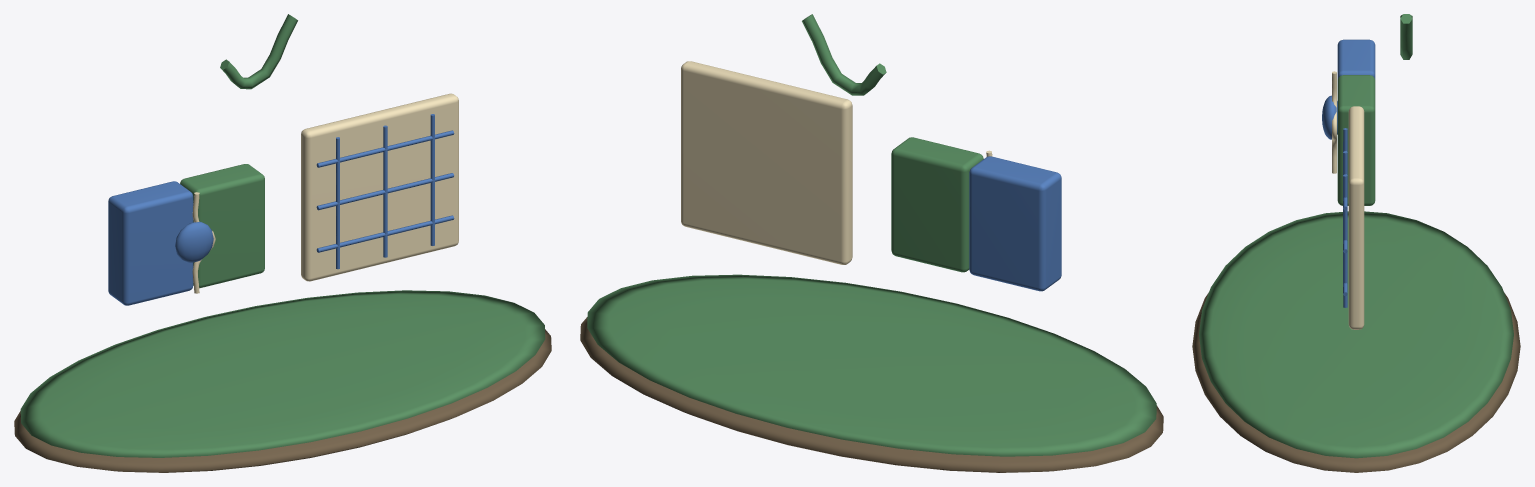
File: complete-third-fit-the-grid.glb
3 views of the same model, side by side, from view 1: azimuth 30°, elevation 25°; view 2: azimuth 150°, elevation 25°; view 3: azimuth 270°, elevation 25° (orthographic). The views are drawn at different scales.
Visible parts, largest first — view 1: complete-third-fit-the-grid_surface_01, complete-third-fit-the-grid_surface_03, complete-third-fit-the-grid_surface_02, complete-third-fit-the-grid_surface_00; view 2: complete-third-fit-the-grid_surface_01, complete-third-fit-the-grid_surface_03, complete-third-fit-the-grid_surface_02, complete-third-fit-the-grid_surface_00; view 3: complete-third-fit-the-grid_surface_01, complete-third-fit-the-grid_surface_00, complete-third-fit-the-grid_surface_03, complete-third-fit-the-grid_surface_02.
Boxes of the visible parts, box(x1,y1,x2,y2) form: complete-third-fit-the-grid_surface_01: box(20, 14, 545, 457); complete-third-fit-the-grid_surface_03: box(192, 93, 458, 293); complete-third-fit-the-grid_surface_02: box(108, 114, 454, 305); complete-third-fit-the-grid_surface_00: box(14, 329, 551, 472); complete-third-fit-the-grid_surface_01: box(587, 14, 1156, 456); complete-third-fit-the-grid_surface_03: box(681, 61, 992, 264); complete-third-fit-the-grid_surface_02: box(969, 156, 1061, 291); complete-third-fit-the-grid_surface_00: box(580, 317, 1163, 472); complete-third-fit-the-grid_surface_01: box(1199, 14, 1513, 458); complete-third-fit-the-grid_surface_00: box(1192, 292, 1520, 472); complete-third-fit-the-grid_surface_03: box(1332, 71, 1364, 329); complete-third-fit-the-grid_surface_02: box(1322, 39, 1375, 307).
Size of the model in its own units: 4.56 by 3.05 by 2.5.
